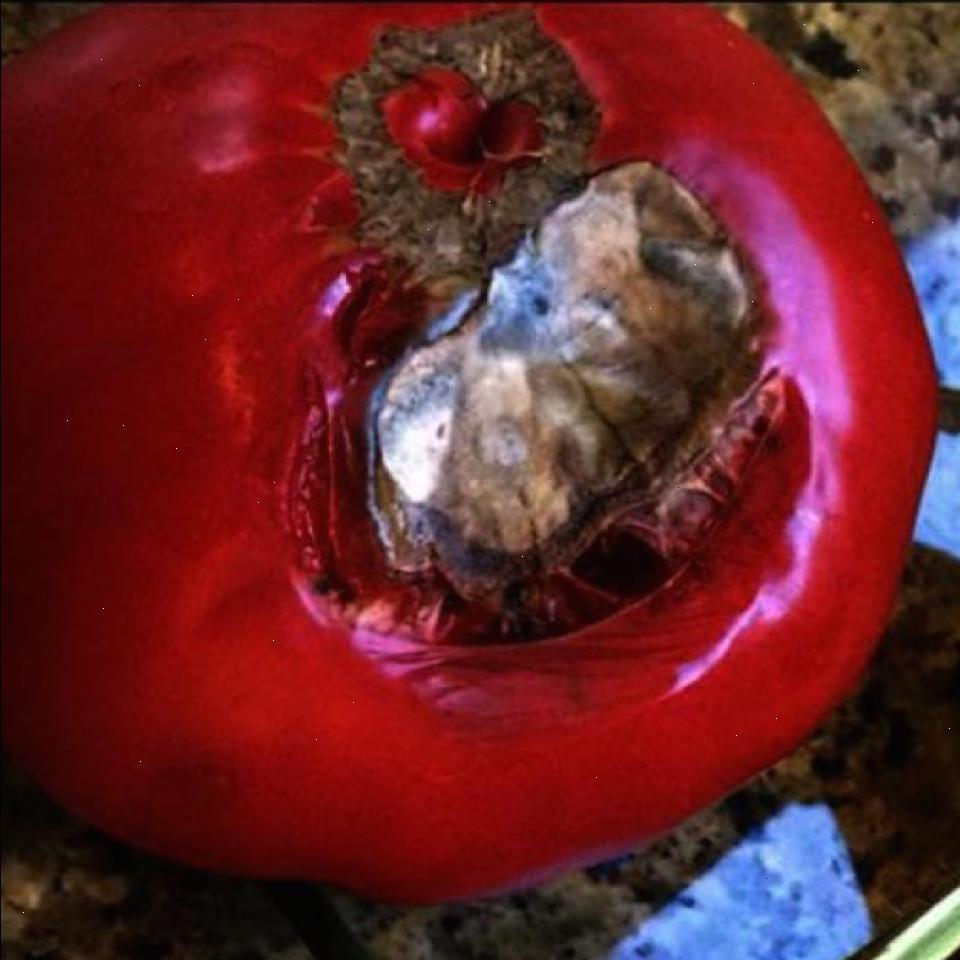Blossom_end_rot: (296, 7, 802, 705)
